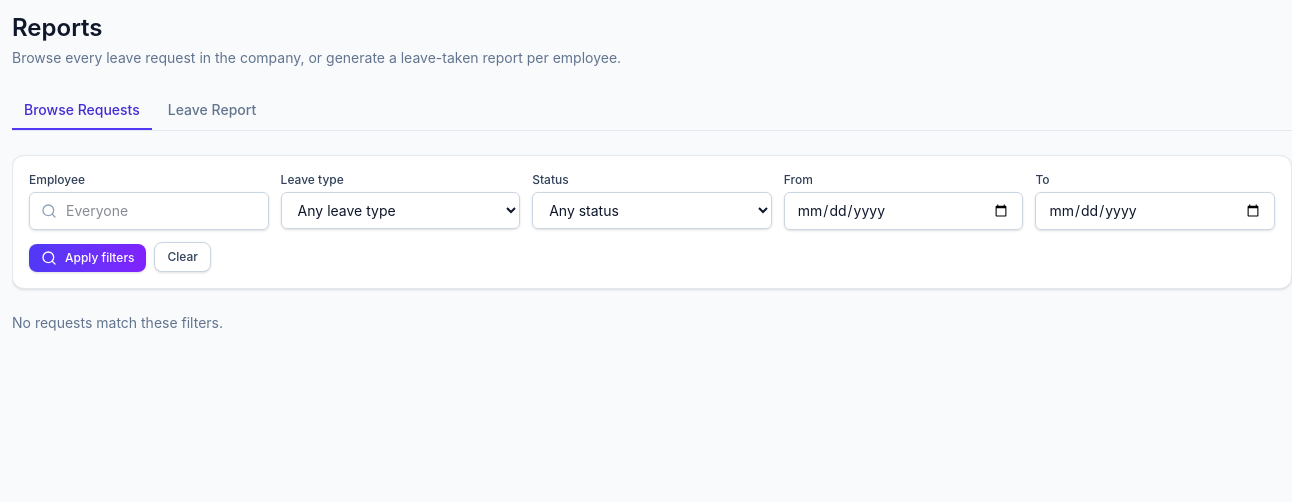
Scenario: HrReportsPage › Browse Requests tab › filters the employee dropdown as the search text narrows it down
Click the dropdown labelled "Employee" at (149, 211), box [29, 192, 269, 230]
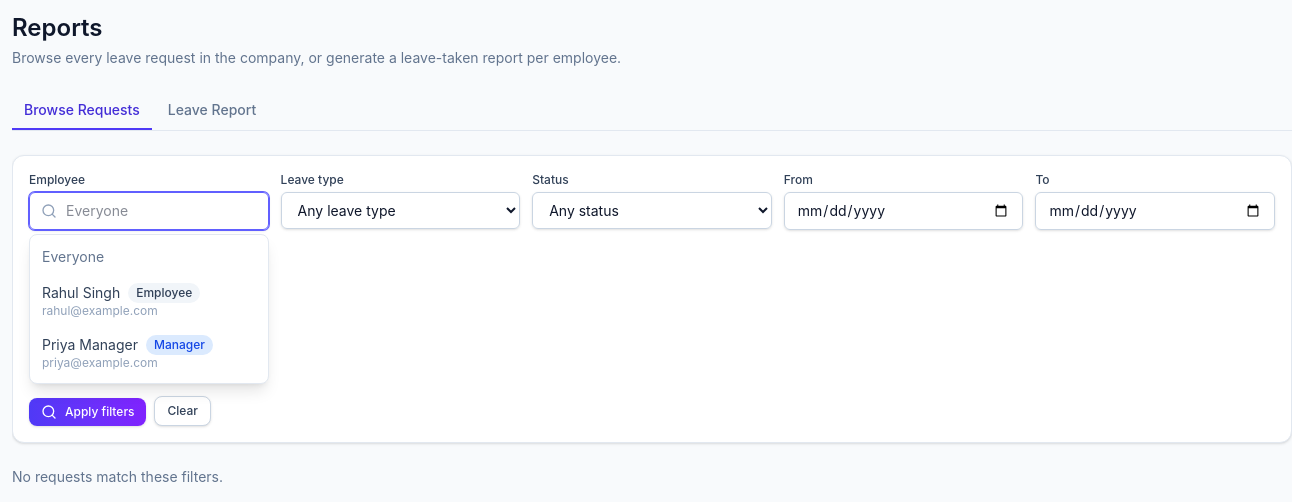
Result: the button "Rahul Singh Employee rahul@example.com" is shown at [30, 275, 268, 327]
Result: the button "Priya Manager Manager priya@example.com" is shown at [30, 327, 268, 379]
Type "pri" into the dropdown labelled "Employee" at (149, 211), box [29, 192, 269, 230]
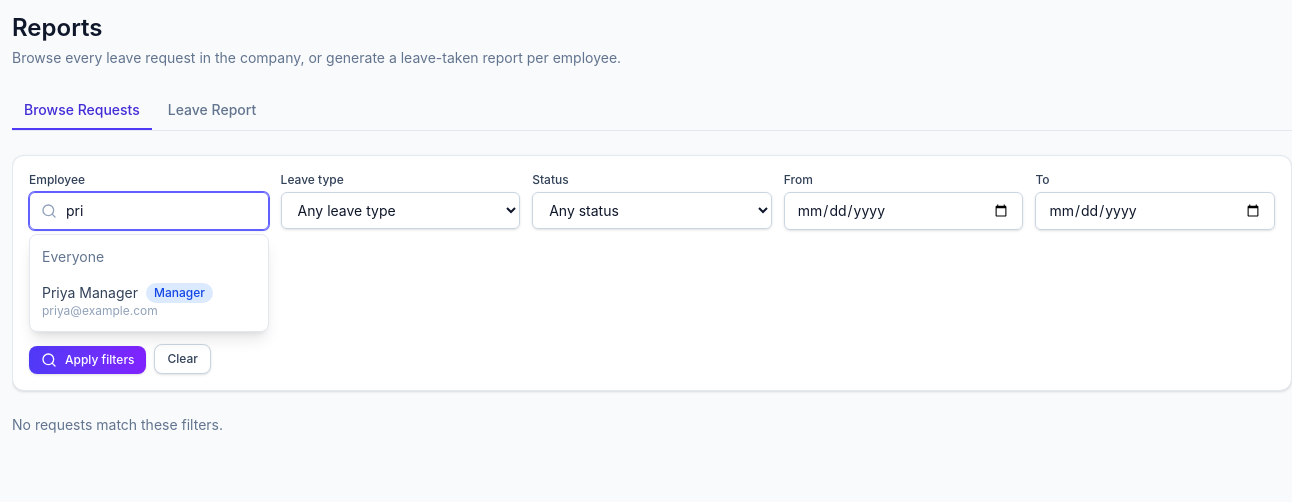
Result: the button "Priya Manager Manager priya@example.com" is shown at [30, 275, 268, 327]
Result: the button "Rahul Singh" is gone
